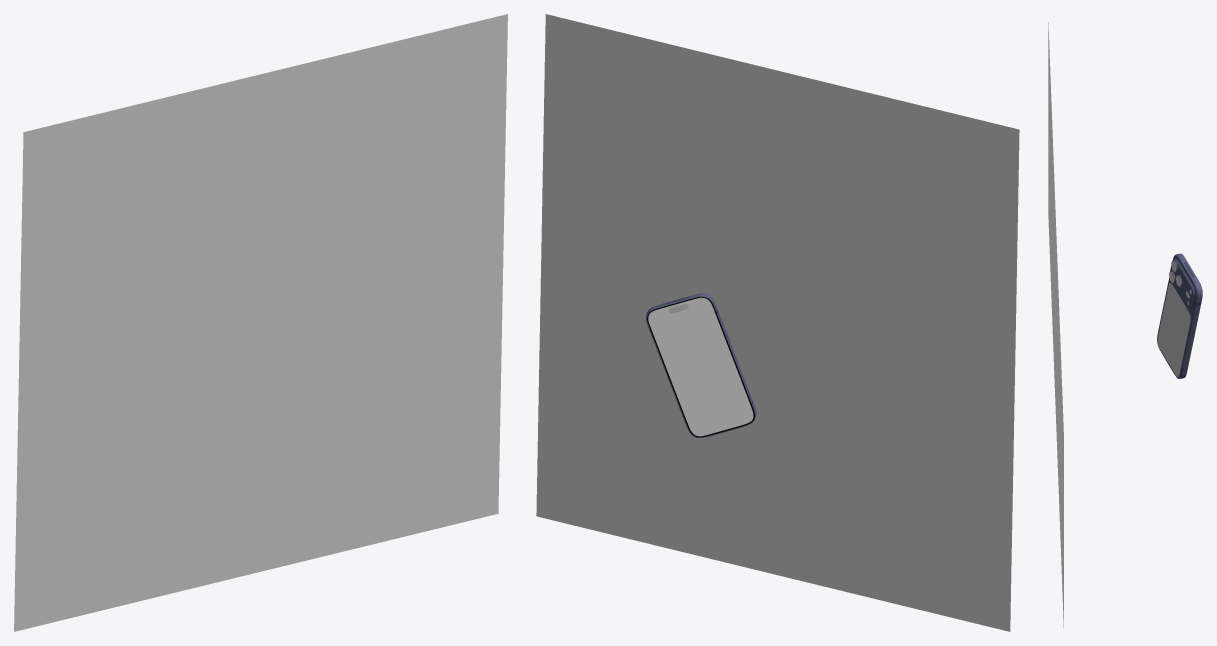
Rendered from Iphone17 model Drak blue.fbx.
3 renders of one model, left to right at view 1: azimuth 30°, elevation 25°; view 2: azimuth 150°, elevation 25°; view 3: azimuth 270°, elevation 25°, orthographic. The views are drawn at different scales.
Parts seen in each view (by area): view 1: Plane; view 2: Plane, Touch Panel, Screen, Cube; view 3: Plane, Cube.005, Cube, Cube.002.
Part boxes in pixels (x1,y1,x2,y2): Plane: (14,14,507,631); Plane: (536,14,1019,631); Touch Panel: (647,297,754,437); Screen: (649,298,752,435); Cube: (646,293,756,437); Plane: (1048,22,1063,627); Cube.005: (1157,283,1190,376); Cube: (1157,253,1202,378); Cube.002: (1170,259,1193,309).
Size of the model in its own units: 448 by 448 by 149.
